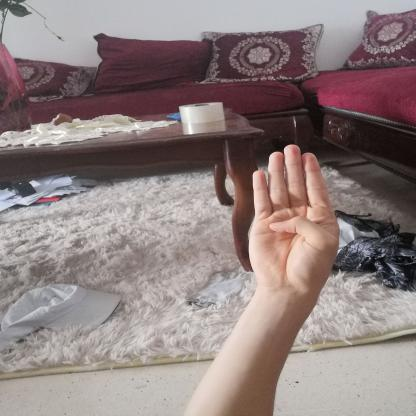KAAF: (235, 135, 348, 305)
